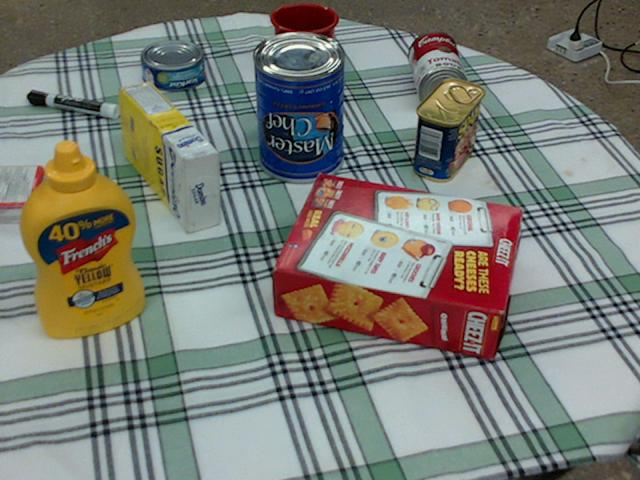cracker_box: (275, 173, 520, 358)
gelatin_box: (0, 165, 46, 223)
large_marker: (28, 89, 118, 118)
master_chef_can: (252, 31, 344, 181)
mug: (271, 2, 340, 82)
mustard_bottle: (20, 140, 143, 335)
potted_meat_can: (412, 78, 483, 181)
sugar_box: (118, 81, 219, 232)
tomato_soup_can: (409, 31, 467, 110)
tuna_fish_can: (141, 39, 205, 89)
